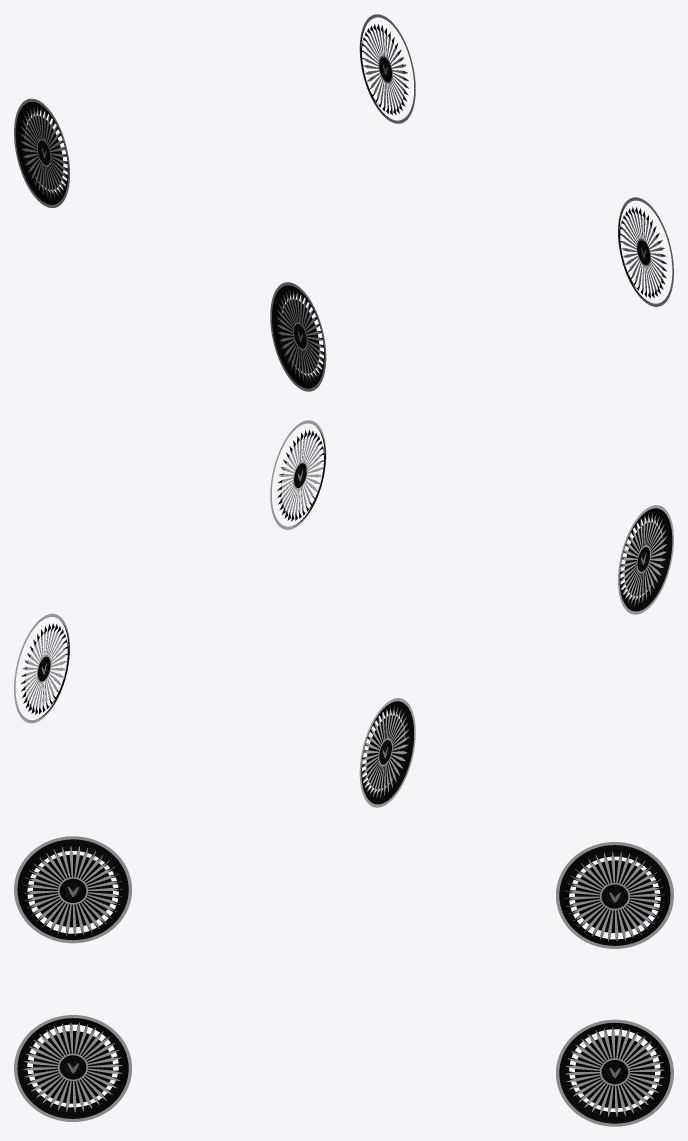
3 renders of one model, top to bottom at view 1: azimuth 30°, elevation 25°; view 2: azimuth 150°, elevation 25°; view 3: azimuth 270°, elevation 25°, orthographic. The views are drawn at different scales.
Parts seen in each view (by area): view 1: 3; view 2: 3; view 3: 3.
Part boxes in pixels (x1,y1,x2,y2): 3: (14, 14, 673, 391); 3: (14, 420, 673, 807); 3: (14, 836, 673, 1126).
Bounding box in the file's own units: 0.978 × 0.2865 × 1.53.
Materials: 3 (1 with a texture image).
